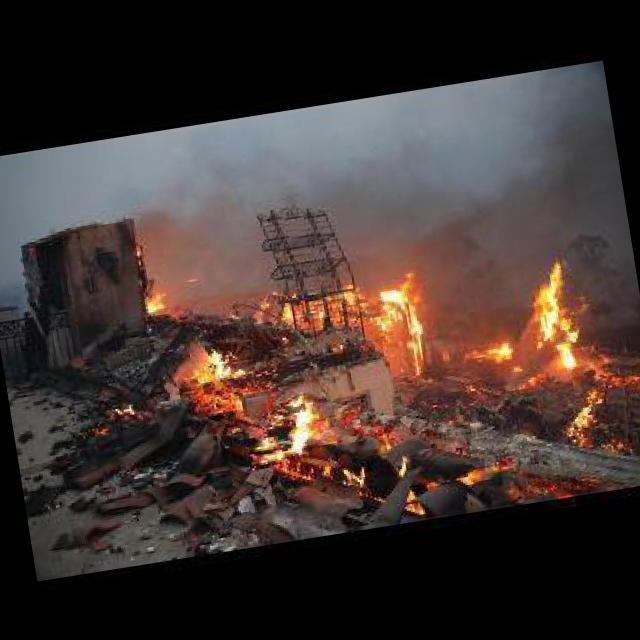Fire: (170, 319, 348, 486), (281, 240, 454, 406), (469, 248, 594, 378), (278, 451, 371, 512), (550, 378, 618, 456), (452, 451, 521, 501), (364, 422, 416, 484), (128, 277, 178, 325), (104, 394, 140, 426)
